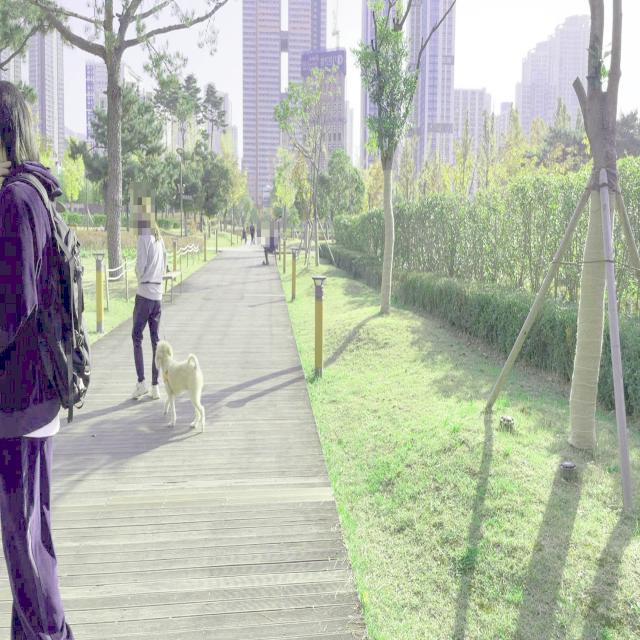Leashed_Dog: (151, 304, 206, 434)
